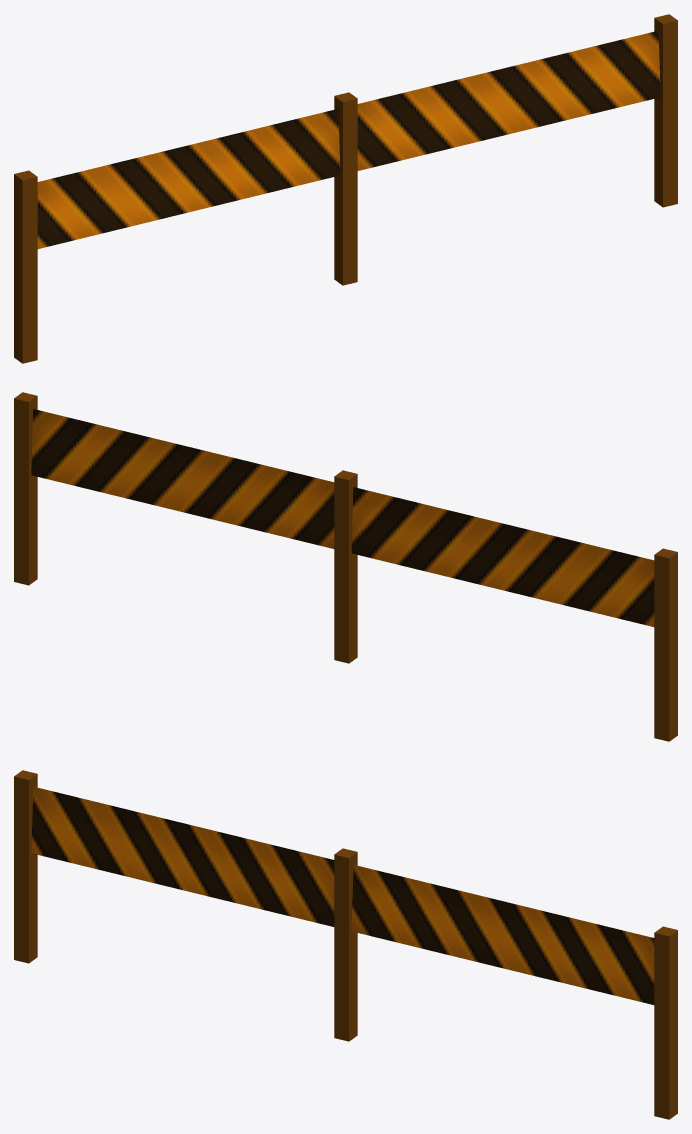
The model's file is House_Guard.fbx.
3 views of the same model, one above another, from view 1: azimuth 30°, elevation 25°; view 2: azimuth 150°, elevation 25°; view 3: azimuth 330°, elevation 25° (orthographic).
Visible parts, largest first — view 1: House_Guard; view 2: House_Guard; view 3: House_Guard.
Part boxes in pixels (x1,y1,x2,y2): House_Guard: (14,14,677,363); House_Guard: (14,392,677,741); House_Guard: (14,770,677,1119).
Bounding box in the file's own units: 281 × 75.21 × 6.42.
